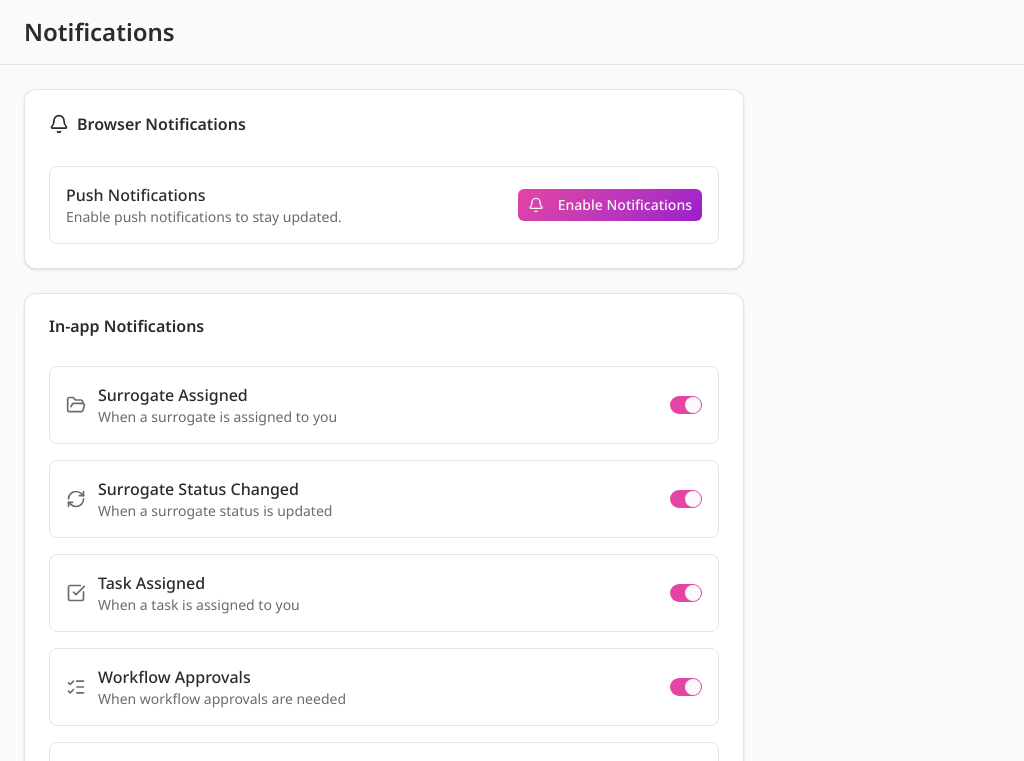
Test: NotificationSettingsPage › requests browser notification permission and updates the visible state
Click the button "Enable Notifications": {"x": 610, "y": 205} [518,189,702,221]
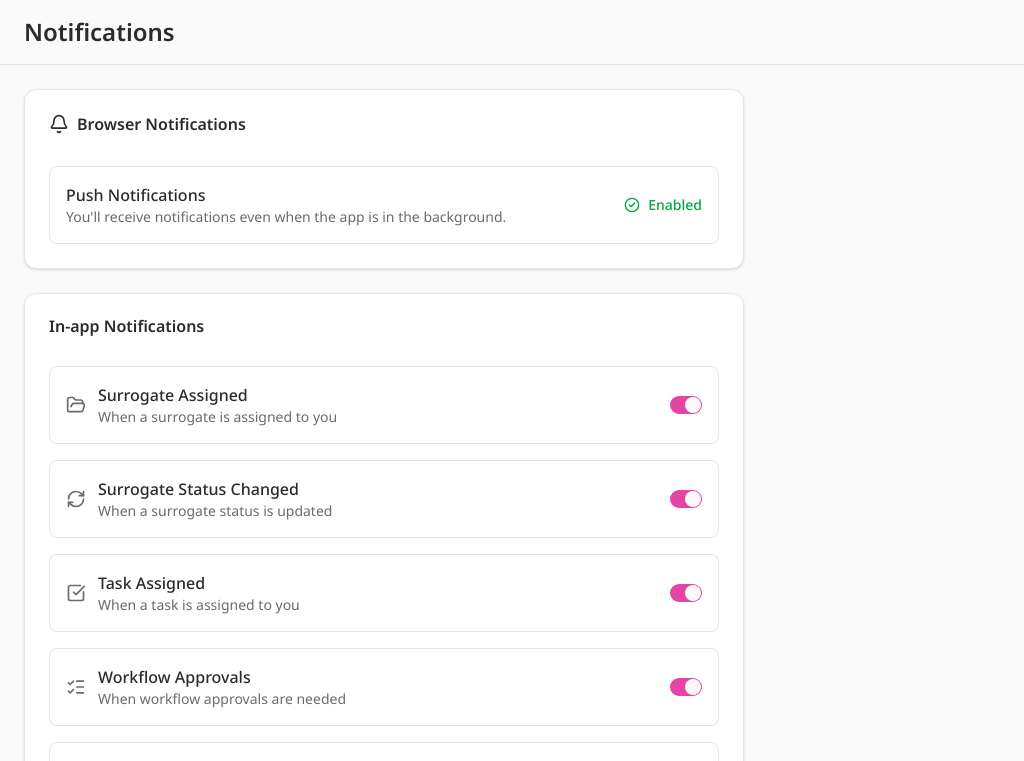
Expected: the text "Enabled" is shown, [648,195,702,215]
